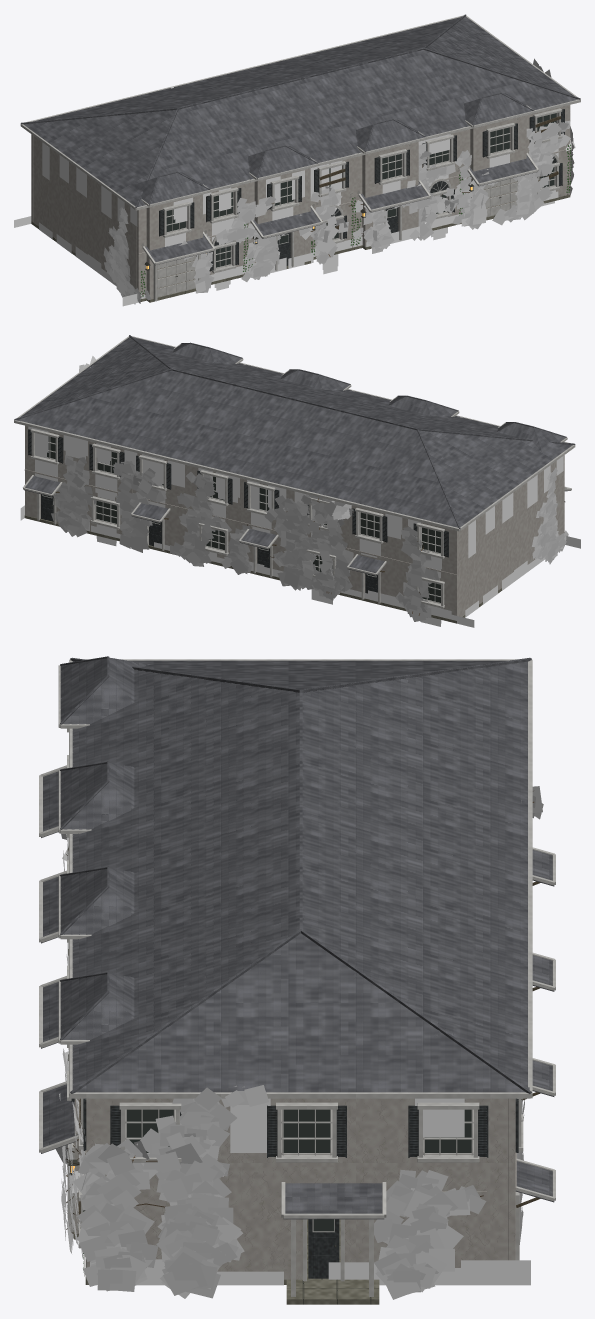
The model's file is kit_row4_intact_v2.glb.
3 renders of one model, top to bottom at view 1: azimuth 30°, elevation 25°; view 2: azimuth 150°, elevation 25°; view 3: azimuth 270°, elevation 25°, orthographic. The views are drawn at different scales.
Visible parts, largest first — view 1: kit_row4_intact_Ivy, Unit_01_Batched, Roof_Left_Shingled.001, Roof_Middle_Shingled.002, Roof_Middle_Shingled.001, Roof_Right_Shingled.003, kit_row4_intact_Grime, Unit_03_Batched, Unit_02_Batched, Unit_RightEnd_Base_DamageReady_Batched.001, Roof_Left_Eave_Trim.001, Projecting_Bay_Shingle_Cap.002 (+9 smaller); view 2: kit_row4_intact_Ivy, Roof_Left_Shingled.001, Unit_01_Batched, Roof_Middle_Shingled.002, Roof_Middle_Shingled.001, Roof_Right_Shingled.003, kit_row4_intact_Grime, Unit_RightEnd_Base_DamageReady_Batched.001, Unit_03_Batched, Unit_02_Batched, Roof_Left_Eave_Trim.001, Roof_Right_Eave_Trim.003 (+6 smaller); view 3: Roof_Right_Shingled.003, Unit_RightEnd_Base_DamageReady_Batched.001, Roof_Middle_Shingled.001, Roof_Middle_Shingled.002, kit_row4_intact_Ivy, Roof_Left_Shingled.001, kit_row4_intact_Grime, Roof_Right_Eave_Trim.003, Projecting_Bay_Shingle_Cap.002, Projecting_Bay_Shingle_Cap.006, Projecting_Bay_Shingle_Cap.003, Projecting_Bay_Shingle_Cap.005 (+10 smaller).
Part boxes in pixels (box(x1,y1,x2,y2)): kit_row4_intact_Ivy: box(103, 58, 575, 304); Unit_01_Batched: box(31, 134, 247, 302); Roof_Left_Shingled.001: box(24, 96, 249, 207); Roof_Middle_Shingled.002: box(245, 43, 465, 153); Roof_Middle_Shingled.001: box(137, 70, 357, 179); Roof_Right_Shingled.003: box(352, 16, 577, 126); kit_row4_intact_Grime: box(14, 134, 558, 306); Unit_03_Batched: box(354, 131, 463, 249); Unit_02_Batched: box(246, 157, 355, 270); Unit_RightEnd_Base_DamageReady_Batched.001: box(462, 115, 538, 220); Roof_Left_Eave_Trim.001: box(20, 95, 250, 210); Projecting_Bay_Shingle_Cap.002: box(129, 172, 208, 204); kit_row4_intact_Ivy: box(51, 356, 568, 621); Roof_Left_Shingled.001: box(346, 417, 572, 527); Unit_01_Batched: box(347, 455, 571, 623); Roof_Middle_Shingled.002: box(130, 364, 351, 473); Roof_Middle_Shingled.001: box(238, 390, 459, 500); Roof_Right_Shingled.003: box(16, 337, 242, 447); kit_row4_intact_Grime: box(20, 426, 580, 627); Unit_RightEnd_Base_DamageReady_Batched.001: box(23, 425, 132, 541); Unit_03_Batched: box(131, 453, 240, 568); Unit_02_Batched: box(239, 478, 348, 597); Roof_Left_Eave_Trim.001: box(344, 416, 575, 531); Roof_Right_Eave_Trim.003: box(14, 335, 244, 450); Roof_Right_Shingled.003: box(72, 918, 529, 1092); Unit_RightEnd_Base_DamageReady_Batched.001: box(39, 1044, 555, 1304); Roof_Middle_Shingled.001: box(72, 707, 527, 876); Roof_Middle_Shingled.002: box(72, 812, 527, 981); kit_row4_intact_Ivy: box(55, 786, 543, 1299); Roof_Left_Shingled.001: box(72, 660, 527, 770); kit_row4_intact_Grime: box(90, 1098, 530, 1285); Roof_Right_Eave_Trim.003: box(69, 915, 532, 1098); Projecting_Bay_Shingle_Cap.002: box(60, 657, 151, 724); Projecting_Bay_Shingle_Cap.006: box(60, 973, 134, 1039); Projecting_Bay_Shingle_Cap.003: box(60, 763, 134, 829); Projecting_Bay_Shingle_Cap.005: box(60, 868, 134, 934).
Bounding box in the file's own units: 32.26 × 9.79 × 15.36.
Materials: 15 (6 with a texture image).
